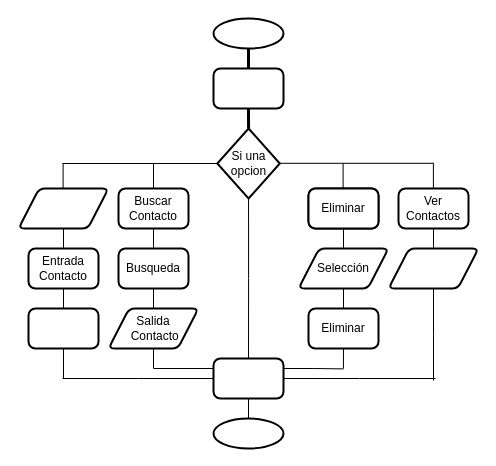
The diagram is 496 pixels wide and 466 high, and some of its shapes have lost their labels. Each missing label, with the centre of its shape:
"Agregar Contacto" belongs at point 63,208.
"Guardar Contacto" belongs at point 63,328.
"Mostrar Lista" belongs at point 433,268.
"Mostrar Menu" belongs at point 248,88.
"Salir" belongs at point 248,378.
